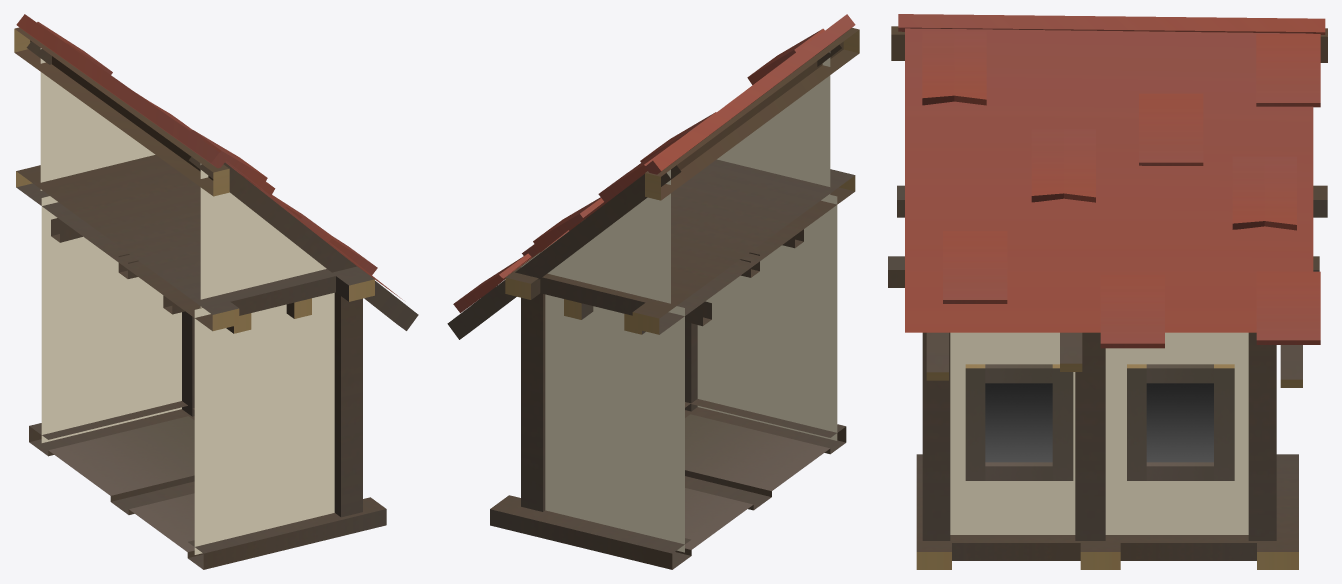
The model's file is House_Piece_2B.fbx.
3 renders of one model, left to right at view 1: azimuth 30°, elevation 25°; view 2: azimuth 150°, elevation 25°; view 3: azimuth 270°, elevation 25°, orthographic. The views are drawn at different scales.
Parts seen in each view (by area): view 1: polySurface9631; view 2: polySurface9631; view 3: polySurface9631.
Boxes of the visible parts, x1,y1,x2,y2 form: polySurface9631: (14,14,418,569); polySurface9631: (447,14,859,569); polySurface9631: (888,14,1327,569).
Bounding box in the file's own units: 219 × 387 × 334.
